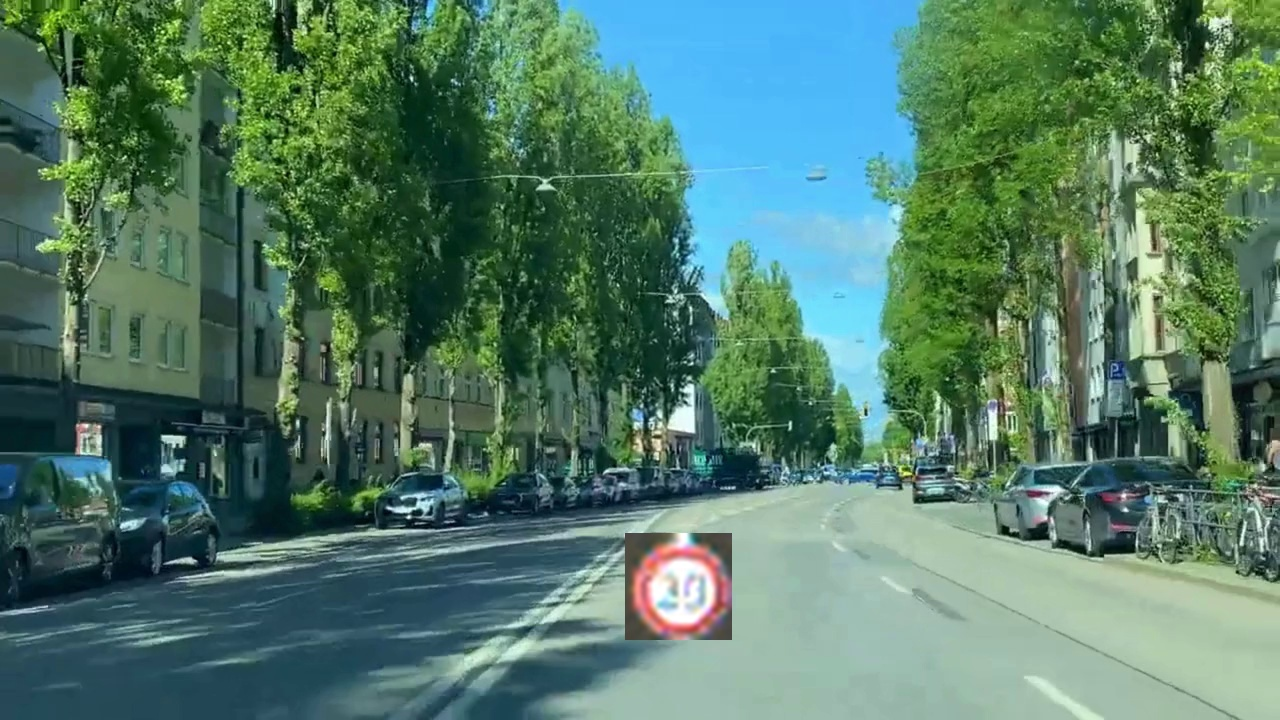Speed 30: (625, 533, 732, 640)
